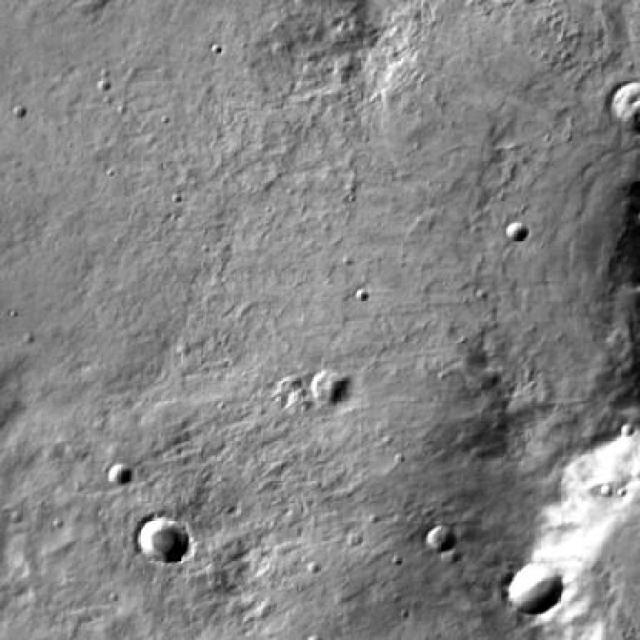crater: (524, 406, 640, 640), (504, 564, 562, 614), (135, 517, 188, 563), (309, 367, 351, 404), (607, 79, 640, 125), (423, 529, 451, 554), (109, 462, 134, 484), (508, 220, 526, 242)
